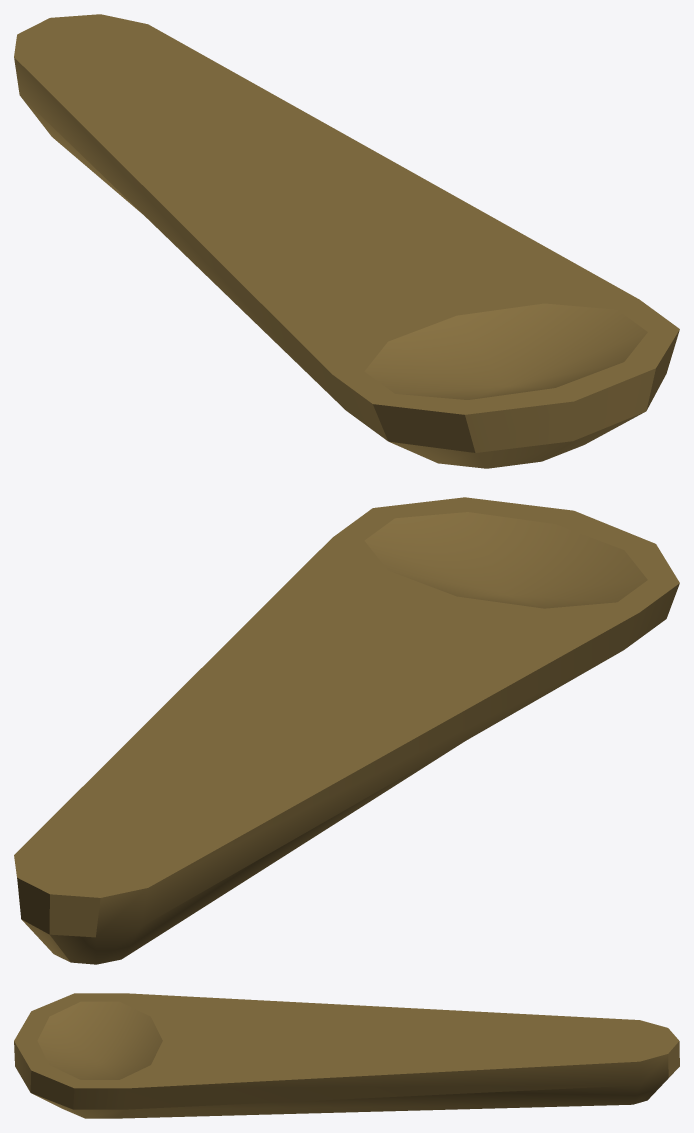
The model's file is EA_Items_House_spoon_wooden_05.glb.
3 views of the same model, one above another, from view 1: azimuth 30°, elevation 25°; view 2: azimuth 150°, elevation 25°; view 3: azimuth 270°, elevation 25° (orthographic). The views are drawn at different scales.
Visible parts, largest first — view 1: EA_Items_House_spoon_wooden_05; view 2: EA_Items_House_spoon_wooden_05; view 3: EA_Items_House_spoon_wooden_05.
Boxes of the visible parts, x1,y1,x2,y2 form: EA_Items_House_spoon_wooden_05: [14, 14, 679, 468]; EA_Items_House_spoon_wooden_05: [14, 497, 679, 964]; EA_Items_House_spoon_wooden_05: [14, 993, 679, 1118].
Size of the model in its own units: 0.097 by 0.0252 by 0.2869.
Materials: 1 (1 with a texture image).
